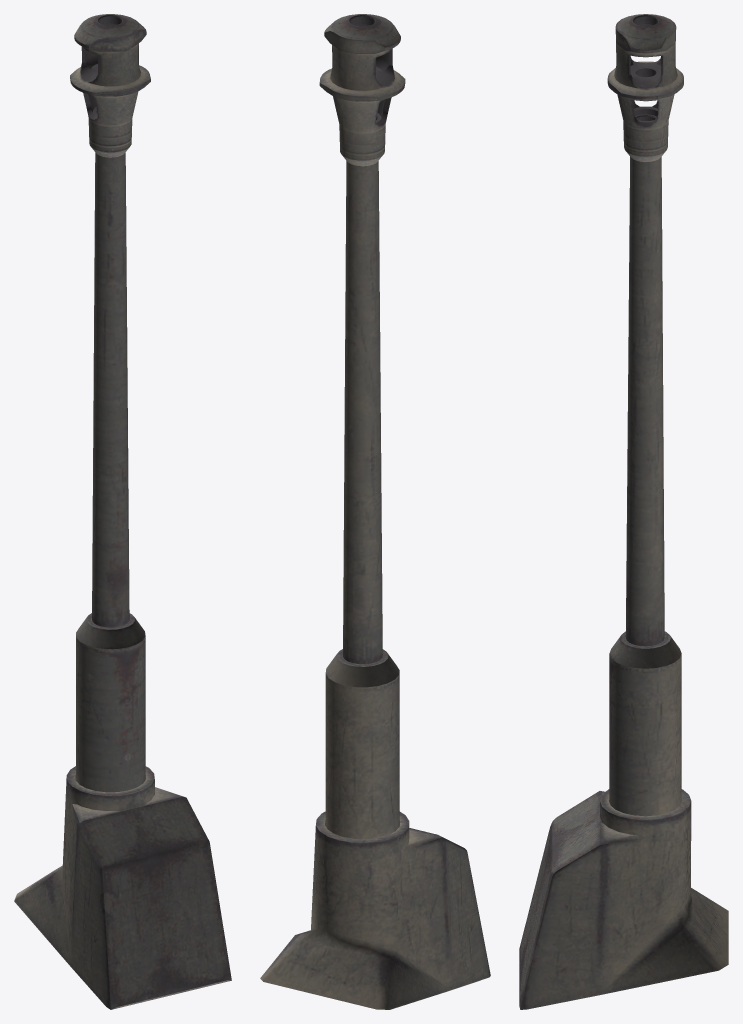
The model's file is Gun_02.glb.
The picture shows the model from 3 angles, left to right: view 1: azimuth 30°, elevation 25°; view 2: azimuth 150°, elevation 25°; view 3: azimuth 270°, elevation 25°; orthographic projection. The views are drawn at different scales.
Visible parts, largest first — view 1: set_0_group_0; view 2: set_0_group_0; view 3: set_0_group_0.
Part boxes in pixels (box(x1,y1,x2,y2)): set_0_group_0: box(14, 14, 231, 1009); set_0_group_0: box(260, 14, 490, 1009); set_0_group_0: box(519, 14, 728, 1009).
Size of the model in its own units: 0.4571 by 3.28 by 0.6493.
1 material, 1 textured.
